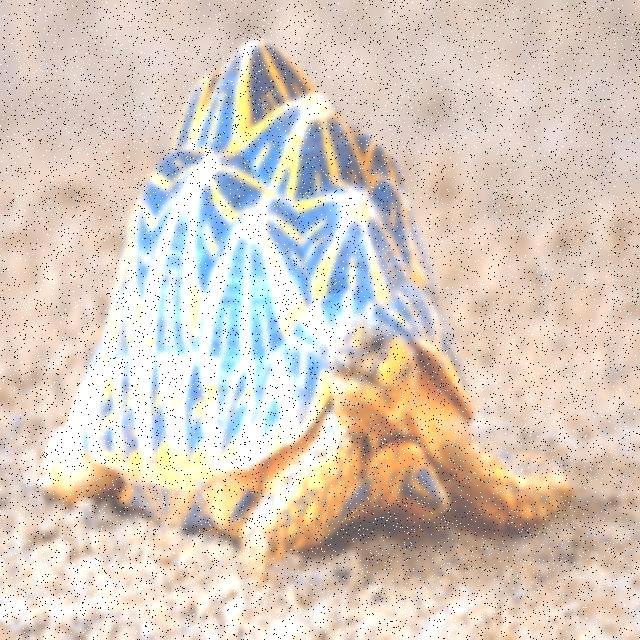tortoise: (32, 29, 572, 573)
